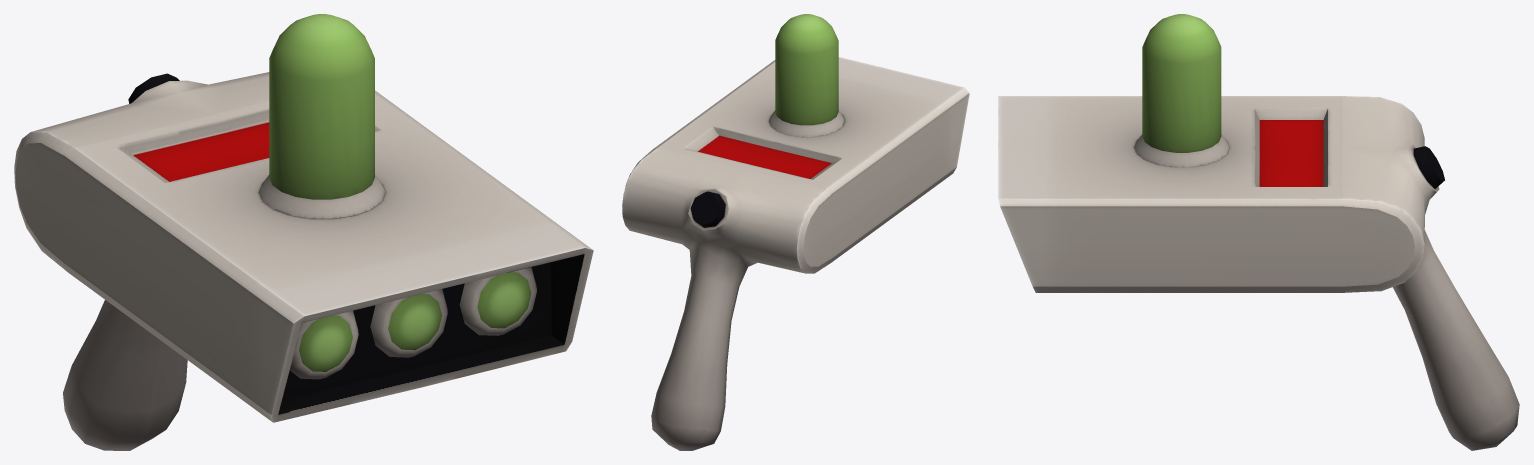
Rendered from portal_gun.glb.
3 views of the same model, side by side, from view 1: azimuth 30°, elevation 25°; view 2: azimuth 150°, elevation 25°; view 3: azimuth 270°, elevation 25° (orthographic). The views are drawn at different scales.
Visible parts, largest first — view 1: pGunLow; view 2: pGunLow; view 3: pGunLow.
Boxes of the visible parts, left/top/right/bottom form: pGunLow: left=14, top=14, right=593, bottom=450; pGunLow: left=622, top=14, right=969, bottom=450; pGunLow: left=998, top=14, right=1519, bottom=450.
Size of the model in its own units: 0.1476 by 0.2682 by 0.2957.
Materials: 1 (1 with a texture image).
